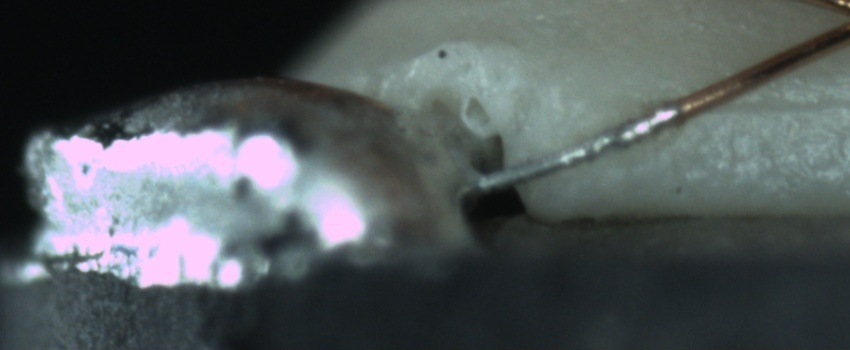CL: (829, 2, 850, 42)
DL: (698, 72, 849, 136)
TS: (475, 103, 684, 193)
TTCW: (474, 67, 751, 197)
